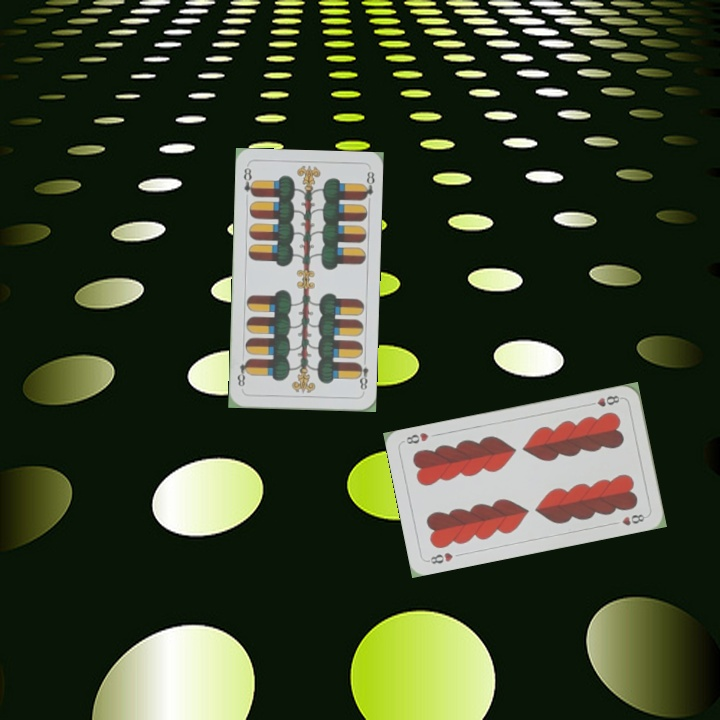E8: (353, 355, 371, 395), (240, 163, 257, 199)
H8: (584, 391, 625, 409), (423, 548, 455, 566)
